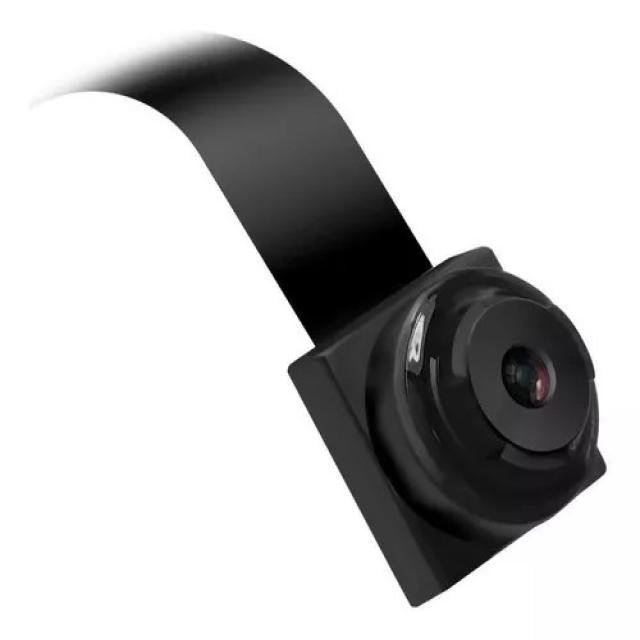hidden camera: (466, 297, 594, 458)
